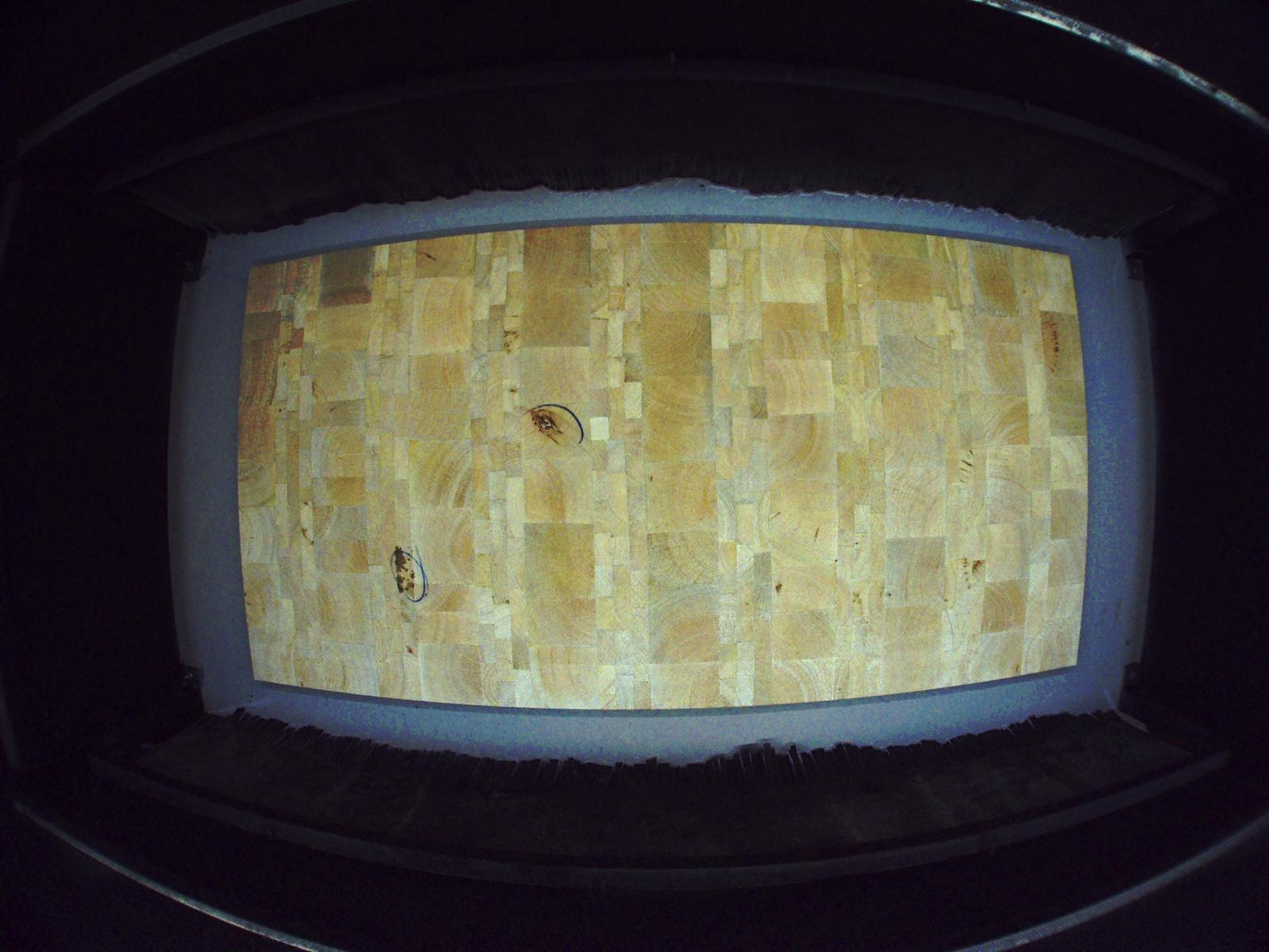nudillo: (528, 406, 592, 459)
